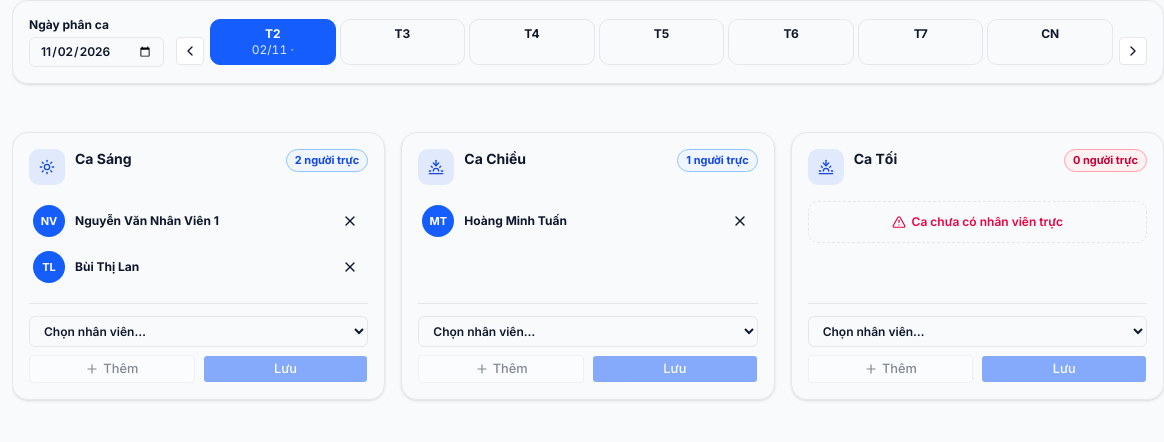
it: ShiftsPanel: phân ai trực ca nào (US-32) › ngày đã qua (tuần trước) → chỉ xem: khóa thêm / bỏ người và nút Lưu
expect the element "Ca Sáng" is shown: met, box [12, 132, 385, 400]
Click the button named "Tuần trước" at x=190, y=51, box [176, 37, 204, 65]
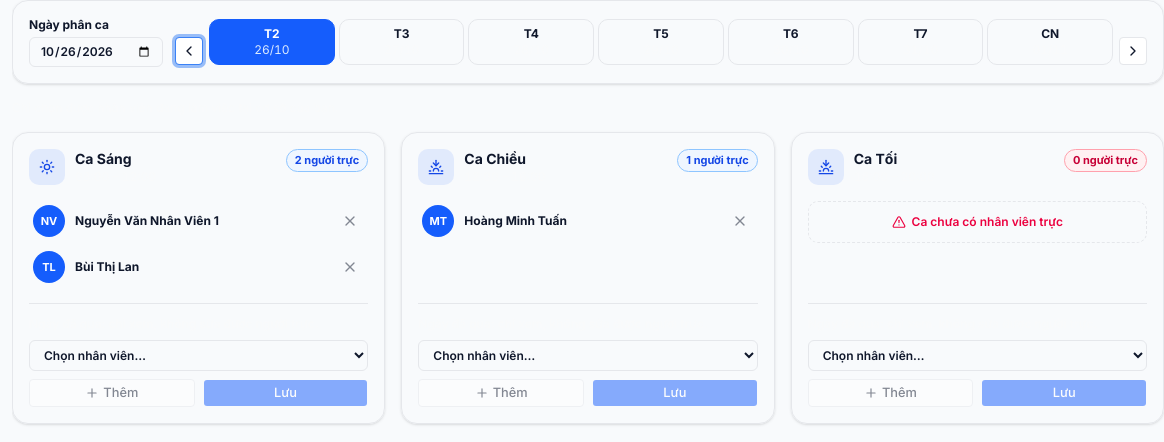
expect the button with aria-label "lưu ca sáng" is disabled: met, box [203, 379, 368, 407]
expect the button named "Bỏ " is disabled: met, box [336, 207, 364, 235]
